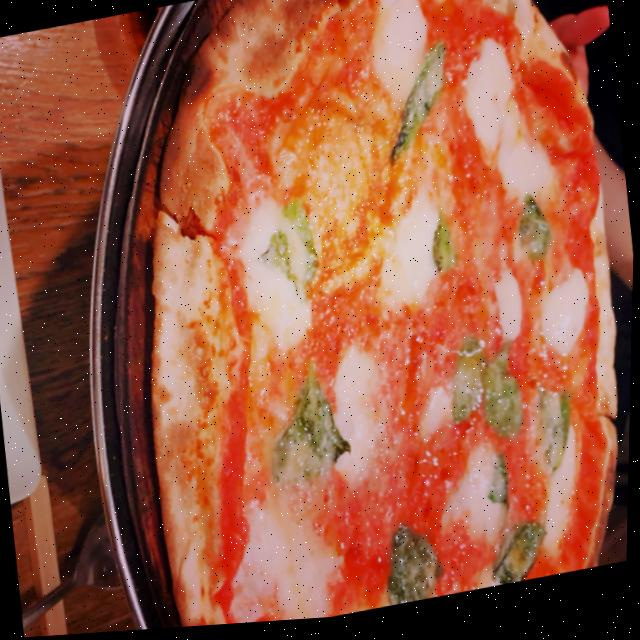basil: (256, 354, 359, 506), (376, 43, 463, 170), (251, 196, 324, 310), (520, 378, 589, 493), (377, 518, 457, 613), (438, 334, 507, 437), (477, 345, 533, 453), (484, 525, 560, 594), (510, 197, 557, 277), (425, 213, 466, 283), (484, 456, 523, 522)
pizza: (100, 0, 640, 634)
